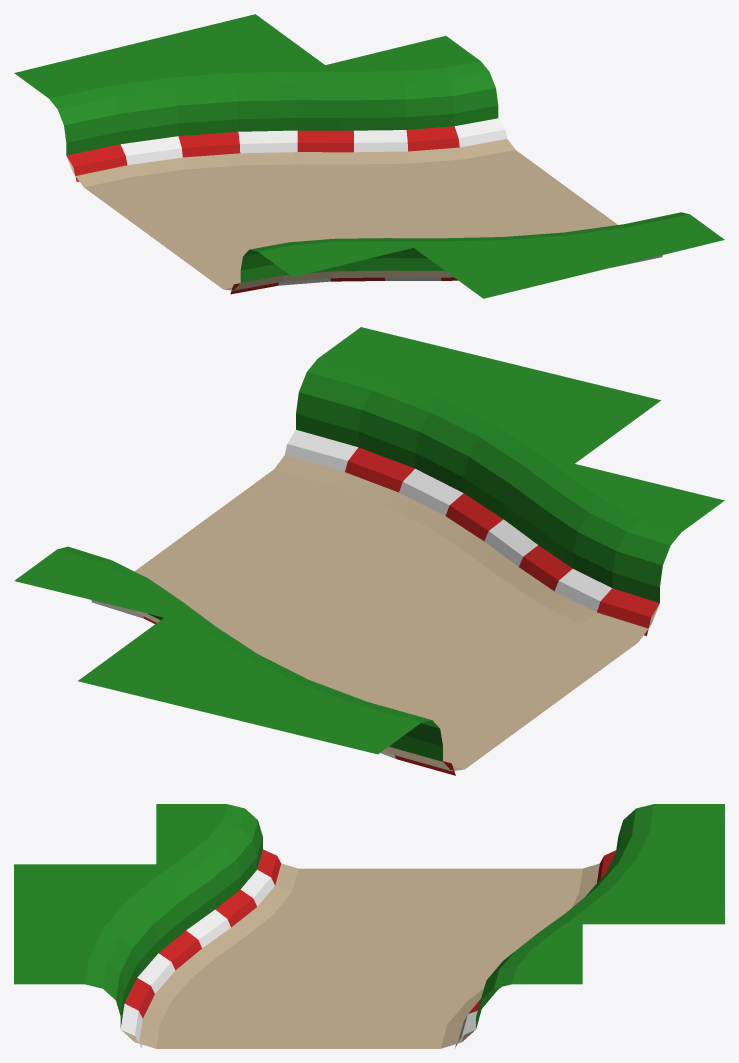
File: Track_Striped_Esse_Double.obj
The picture shows the model from 3 angles, top to bottom: view 1: azimuth 30°, elevation 25°; view 2: azimuth 150°, elevation 25°; view 3: azimuth 270°, elevation 25°; orthographic projection. The views are drawn at different scales.
Visible parts, largest first — view 1: Grass, Dirt, Raceline_Color_2, Raceline_Color_1; view 2: Grass, Dirt, Raceline_Color_1, Raceline_Color_2; view 3: Dirt, Grass, Raceline_Color_1, Raceline_Color_2.
Boxes of the visible parts, bbox=[...] form: Grass: bbox=[14, 14, 724, 298]; Dirt: bbox=[66, 139, 617, 290]; Raceline_Color_2: bbox=[66, 126, 459, 294]; Raceline_Color_1: bbox=[120, 118, 662, 285]; Grass: bbox=[14, 327, 724, 761]; Dirt: bbox=[108, 455, 659, 771]; Raceline_Color_1: bbox=[91, 430, 611, 758]; Raceline_Color_2: bbox=[143, 447, 659, 775]; Dirt: bbox=[121, 863, 599, 1048]; Grass: bbox=[14, 804, 724, 1028]; Raceline_Color_1: bbox=[120, 869, 477, 1048]; Raceline_Color_2: bbox=[124, 849, 615, 1018].
Size of the model in its own units: 3 by 0.5 by 5.
